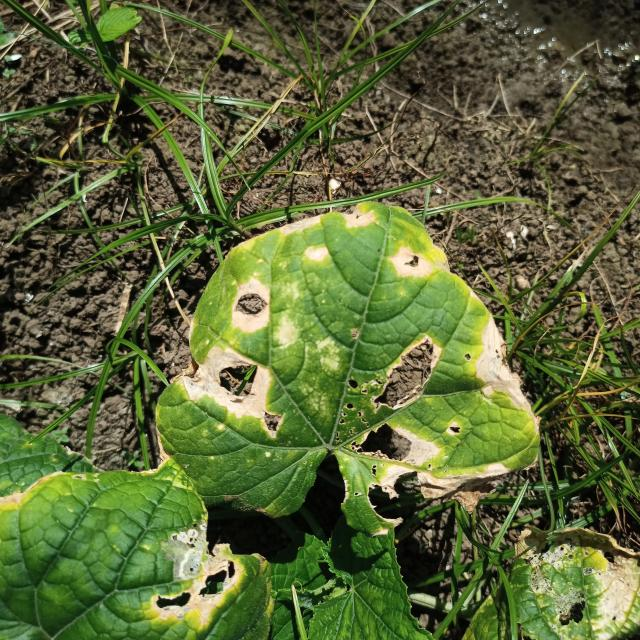disease_cucumber: (184, 207, 536, 506), (148, 527, 238, 628)
